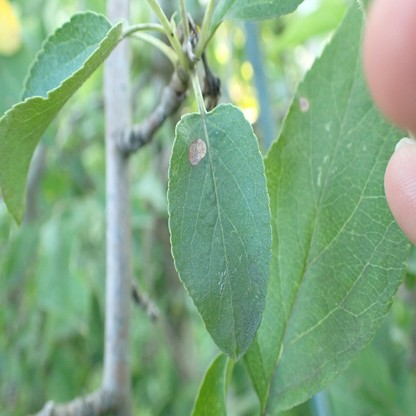frogeye_leaf_spot: (189, 139, 207, 164), (299, 96, 309, 113)
